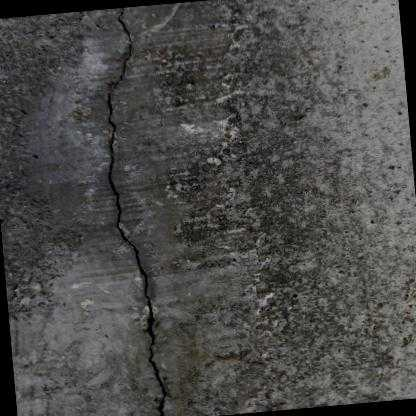crack: (108, 7, 166, 416)
